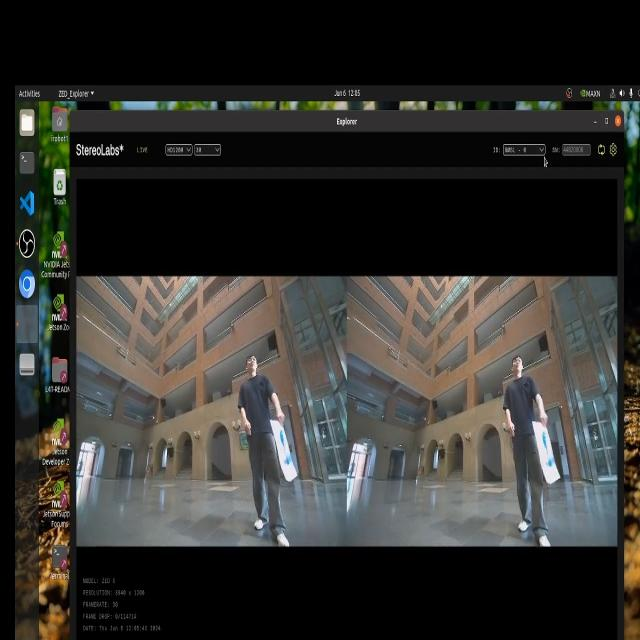blue: (534, 426, 559, 482), (276, 419, 294, 479)
